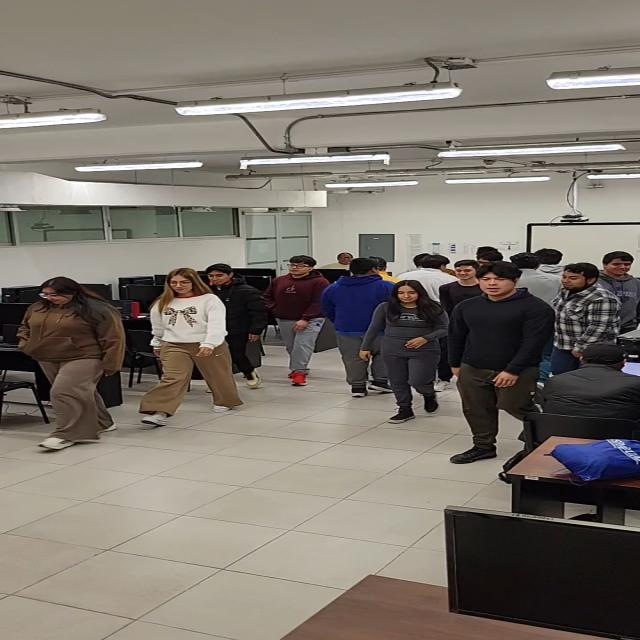Persona: (454, 265, 543, 449), (20, 278, 127, 425), (152, 268, 222, 401), (378, 279, 438, 417), (207, 262, 267, 384), (268, 255, 320, 374), (553, 264, 622, 351), (599, 240, 640, 307), (446, 260, 479, 299)
